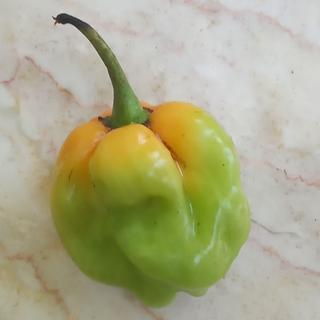Grade-B: (45, 94, 255, 310)
